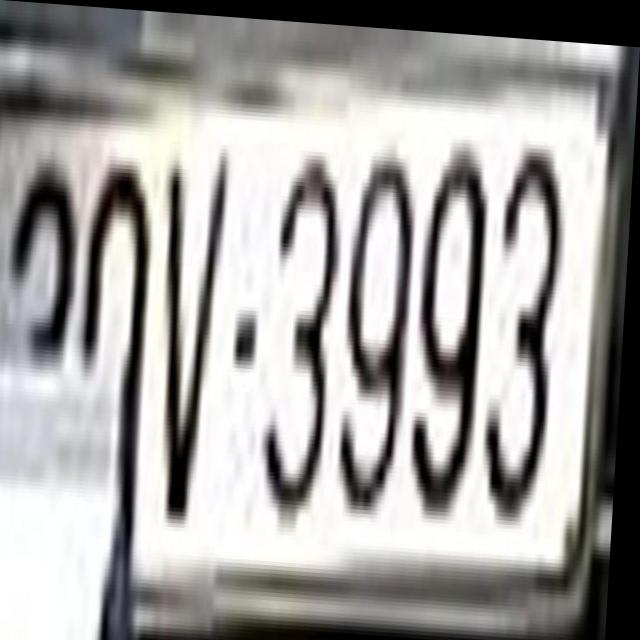0: (73, 165, 158, 615)
3: (0, 152, 84, 606), (261, 152, 346, 544), (487, 123, 570, 510)
9: (339, 141, 419, 518), (411, 145, 494, 506)
V: (154, 142, 230, 518)
